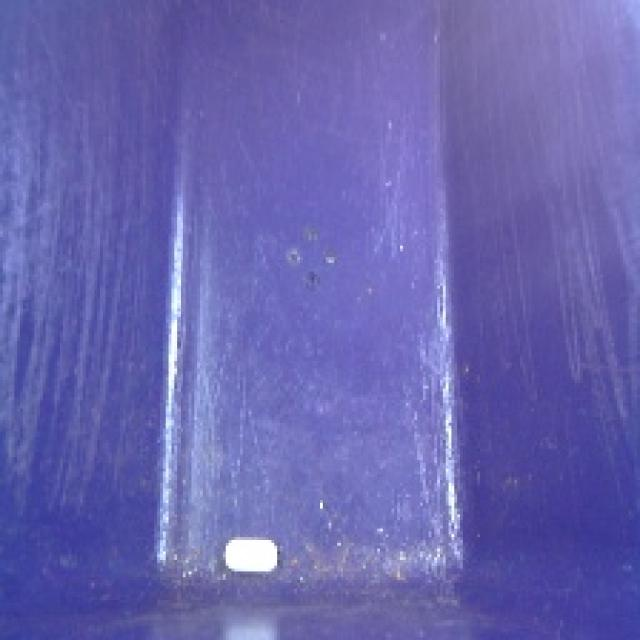small: (219, 531, 284, 581)
